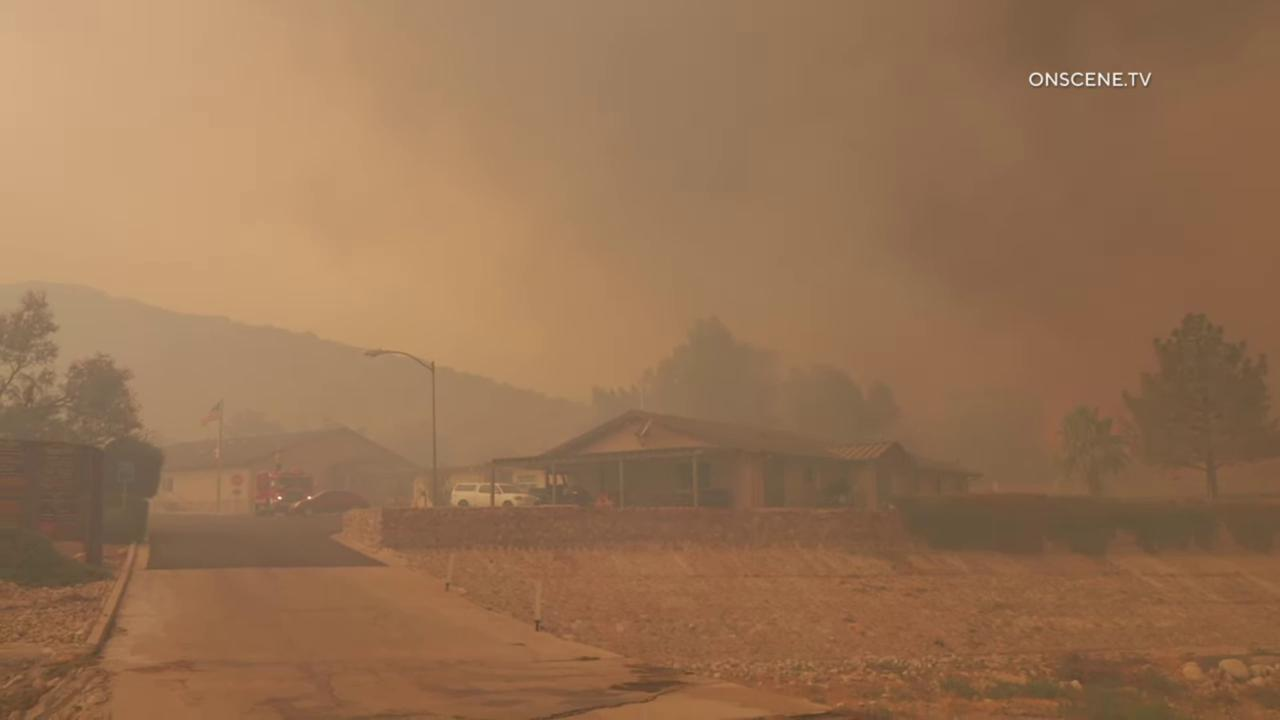smoke: (0, 0, 1280, 534)
